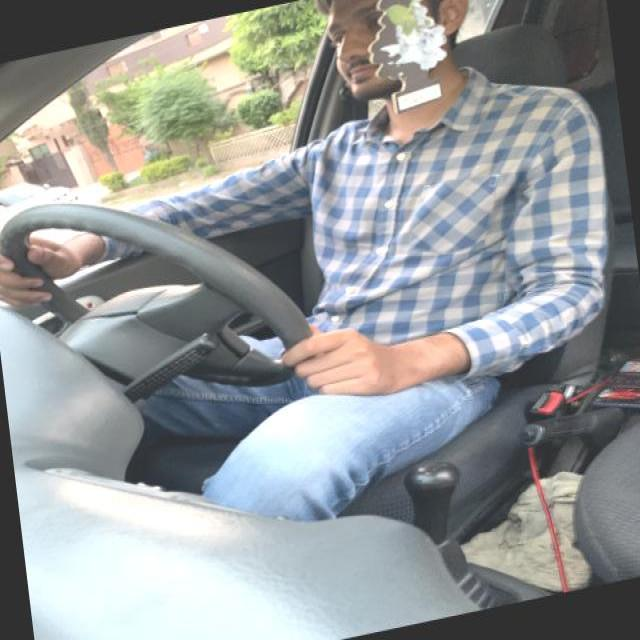no-seatbelt: (302, 2, 600, 391)
